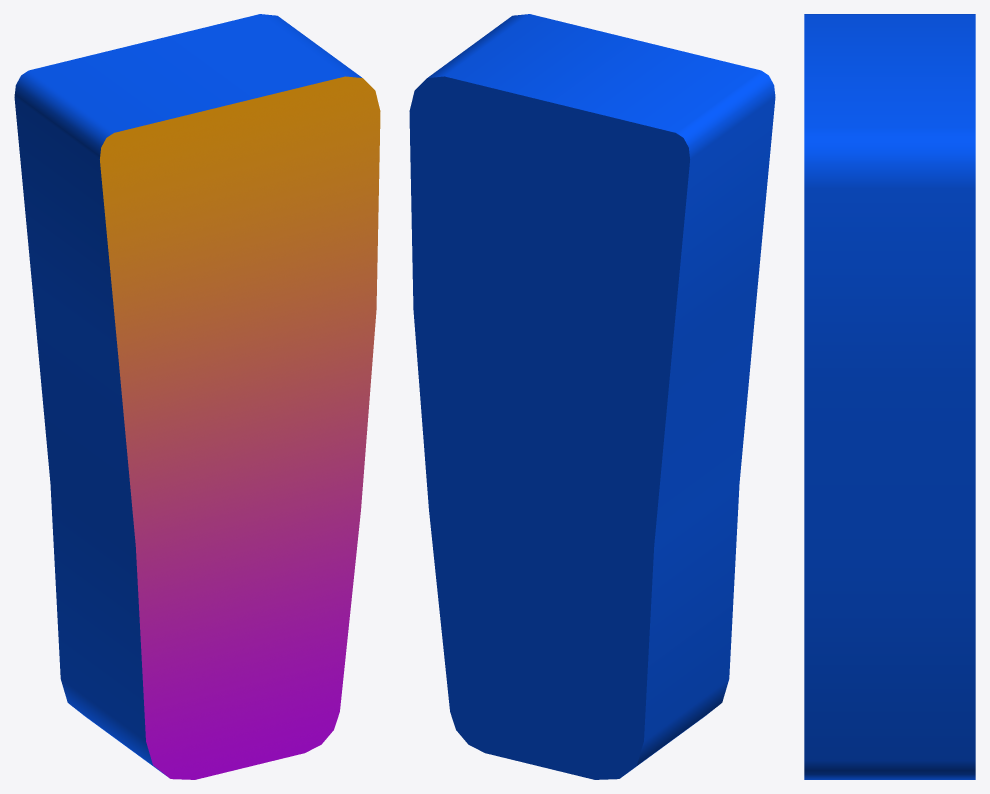
3 views of the same model, side by side, from view 1: azimuth 30°, elevation 25°; view 2: azimuth 150°, elevation 25°; view 3: azimuth 270°, elevation 25° (orthographic).
Parts seen in each view (by area): view 1: 1; view 2: 1; view 3: 1.
Part boxes in pixels (x1,y1,x2,y2): 1: [14, 14, 380, 779]; 1: [409, 14, 775, 779]; 1: [804, 14, 975, 779].
Bounding box in the file's own units: 37.99 × 86.23 × 20.
2 materials, 1 textured.
